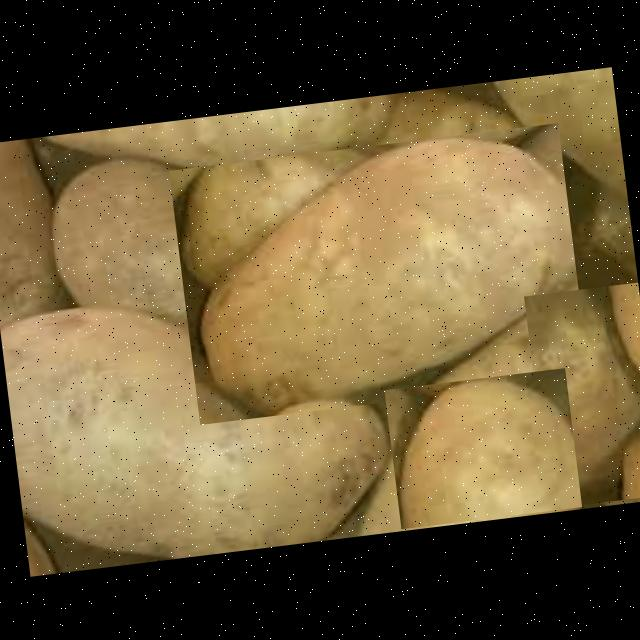Potato: (168, 121, 588, 424), (0, 264, 402, 574), (19, 90, 412, 201), (382, 366, 580, 528), (522, 281, 640, 508)
